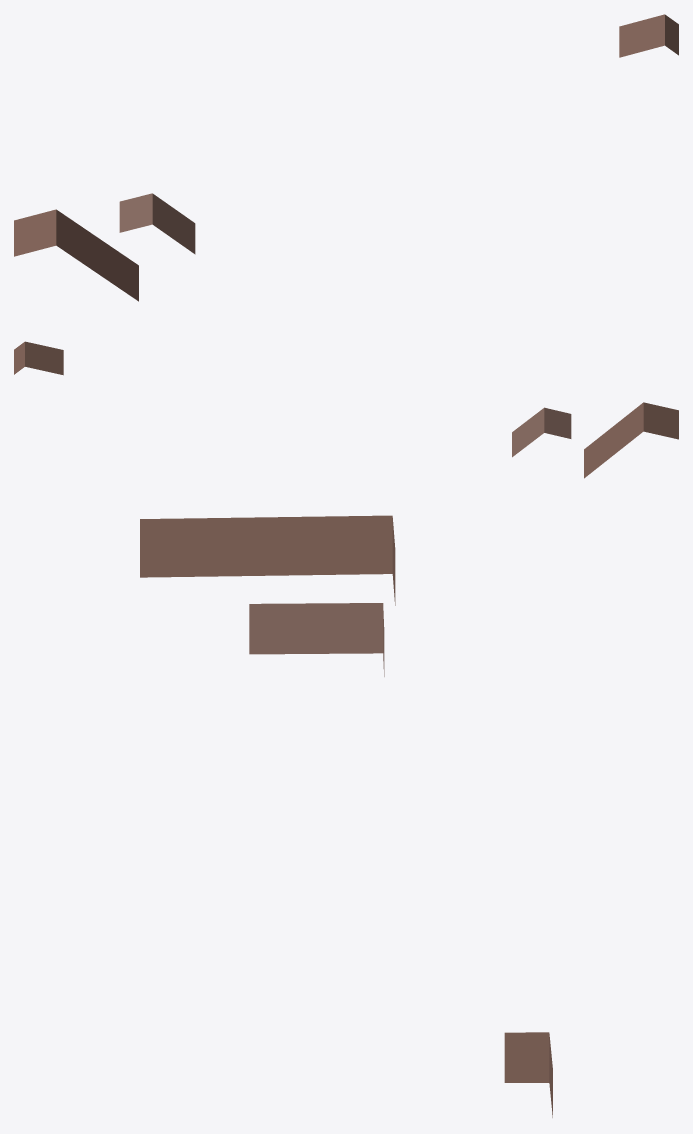
The model's file is c_1632_17831_buildings_residential.glb.
3 renders of one model, top to bottom at view 1: azimuth 30°, elevation 25°; view 2: azimuth 150°, elevation 25°; view 3: azimuth 270°, elevation 25°, orthographic. The views are drawn at different scales.
Visible parts, largest first — view 1: geometry_0; view 2: geometry_0; view 3: geometry_0.
Part boxes in pixels (bbox=[...]): geometry_0: bbox=[14, 14, 678, 301]; geometry_0: bbox=[14, 341, 678, 478]; geometry_0: bbox=[140, 515, 552, 1117].
Bounding box in the file's own units: 223 × 11.08 × 70.39.
